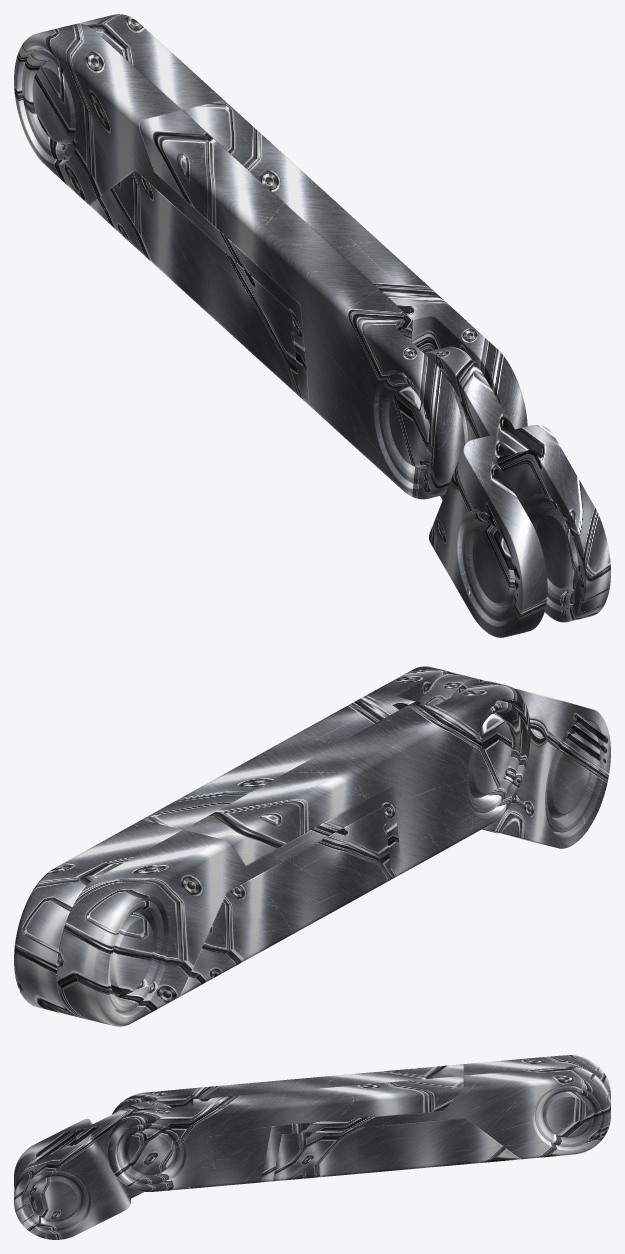
Rendered from Arm.glb.
3 renders of one model, top to bottom at view 1: azimuth 30°, elevation 25°; view 2: azimuth 150°, elevation 25°; view 3: azimuth 270°, elevation 25°, orthographic. The views are drawn at different scales.
Parts seen in each view (by area): view 1: polySurface2010; view 2: polySurface2010; view 3: polySurface2010.
Part boxes in pixels (left/top/right/bottom): polySurface2010: left=14, top=14, right=610, bottom=637; polySurface2010: left=14, top=666, right=610, bottom=1026; polySurface2010: left=14, top=1055, right=610, bottom=1239.
Size of the model in its own units: 0.00292 by 0.00836 by 0.0282.
Materials: 1 (1 with a texture image).
